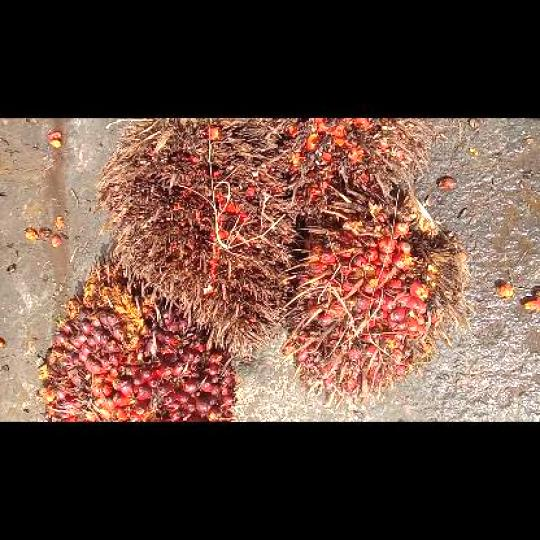masak: (280, 186, 473, 409), (38, 252, 240, 420)
terlalu masak: (94, 118, 295, 360), (279, 118, 438, 248)
